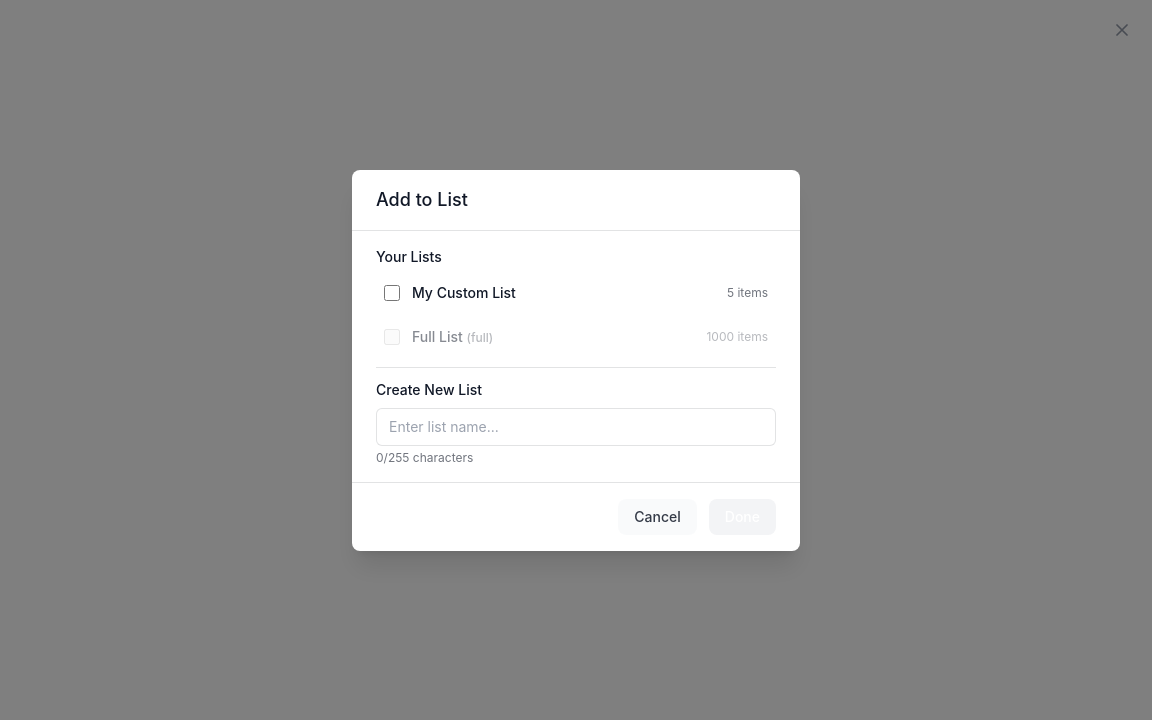
AddToListDialog › should handle adding artwork errors gracefully
The image size is (1152, 720).
Click the checkbox labelled "My Custom List 5 items": click(392, 292) [384,284,400,300]
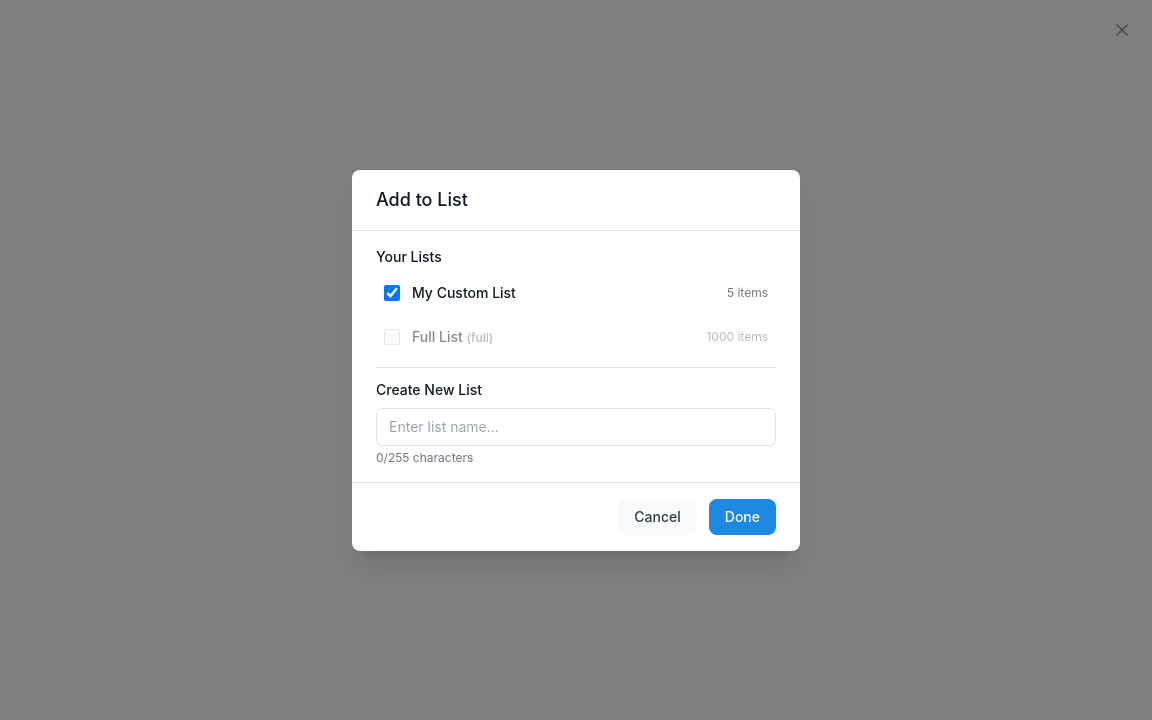
Click the button "Done": click(742, 516) [709,498,776,534]
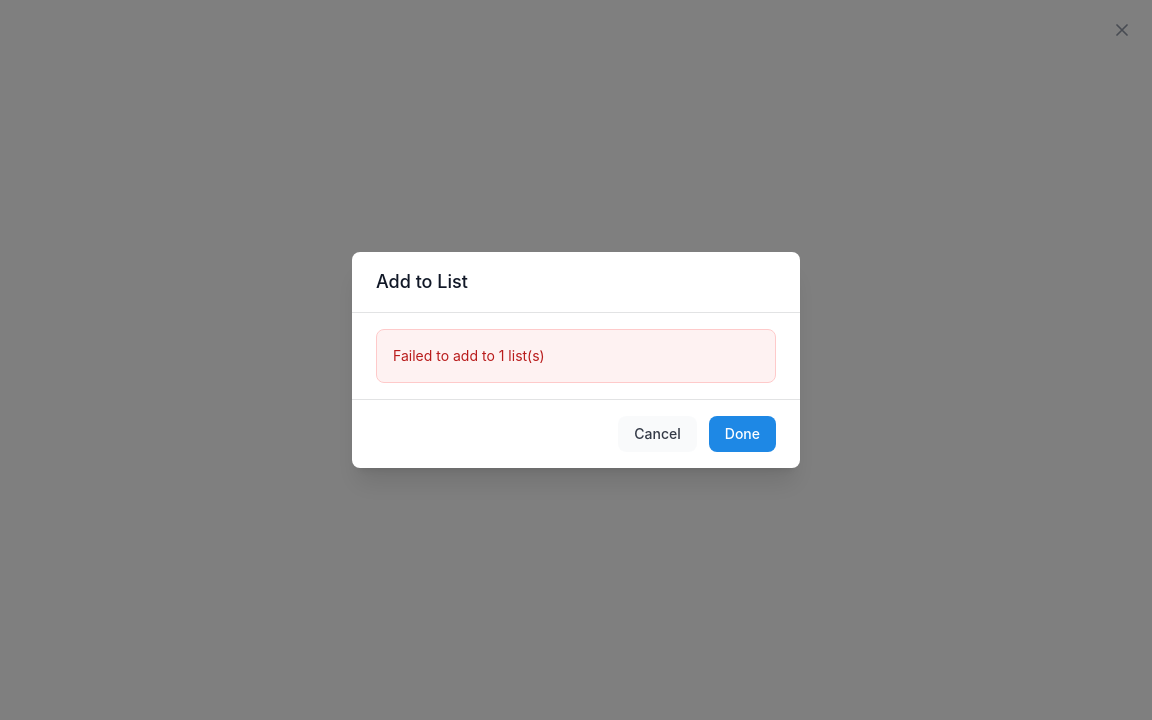
Check: the text "Failed to add to 1 list(s)" is shown, box [393,347,545,364]
